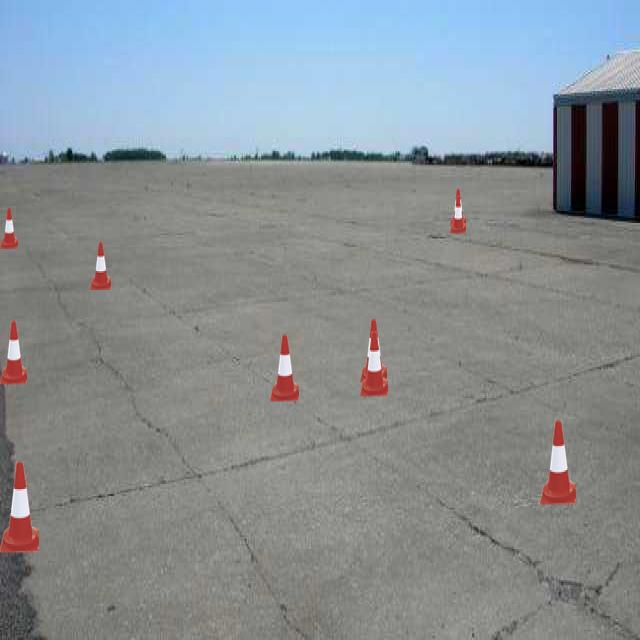orange_cone: (0, 462, 39, 552), (540, 420, 576, 504), (270, 334, 299, 402), (360, 332, 388, 396), (360, 319, 387, 383), (0, 321, 27, 384), (90, 242, 111, 290), (0, 208, 18, 248), (450, 189, 466, 226), (450, 196, 466, 233)
